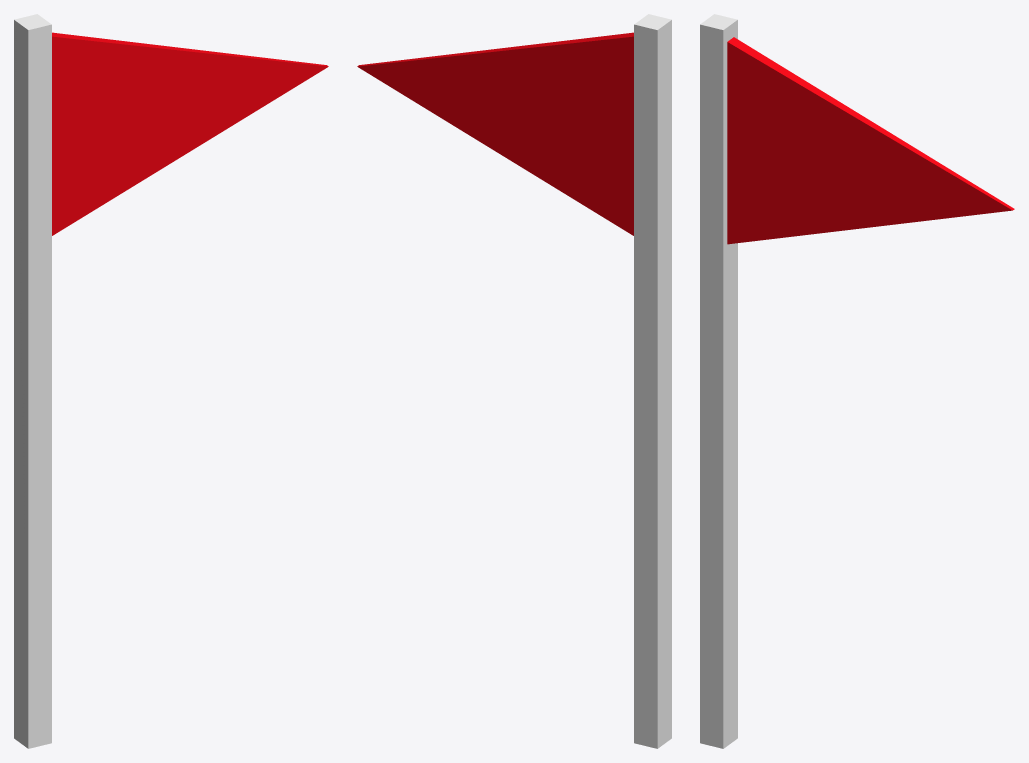
The picture shows the model from 3 angles, left to right: view 1: azimuth 30°, elevation 25°; view 2: azimuth 150°, elevation 25°; view 3: azimuth 330°, elevation 25°; orthographic projection.
Parts seen in each view (by area): view 1: Cube.001, Cube; view 2: Cube.001, Cube; view 3: Cube.001, Cube.
Boxes of the visible parts, x1,y1,x2,y2 form: Cube.001: (52, 32, 328, 235); Cube: (14, 14, 51, 748); Cube.001: (357, 32, 633, 235); Cube: (634, 14, 671, 748); Cube.001: (727, 37, 1014, 244); Cube: (700, 14, 737, 748).
Size of what is drawn, in the model's own units: 3.81 by 8.54 by 0.3094.
